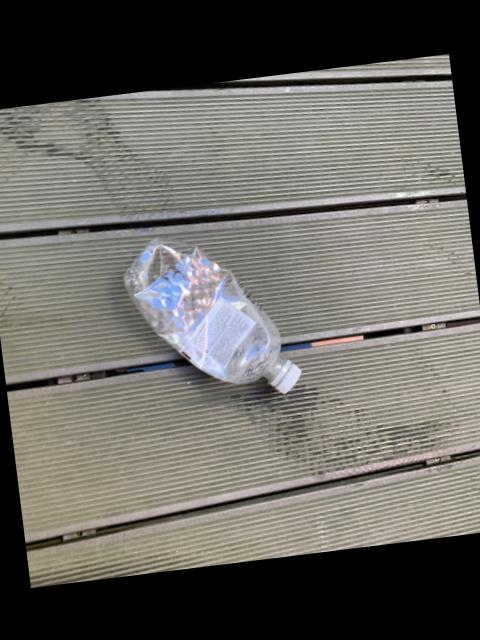plastic: (126, 240, 303, 393)
